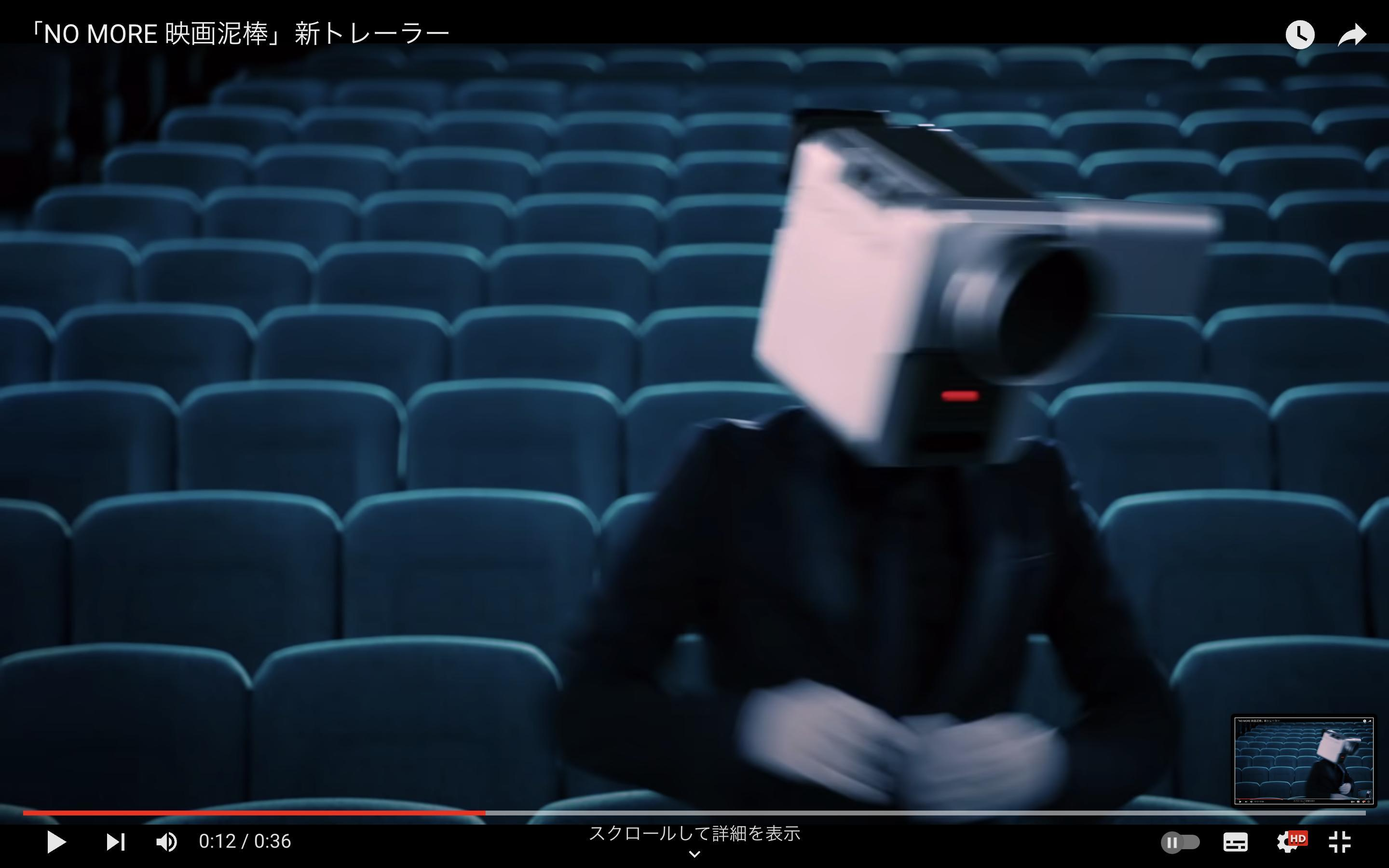no more kid: (709, 61, 1245, 514)
